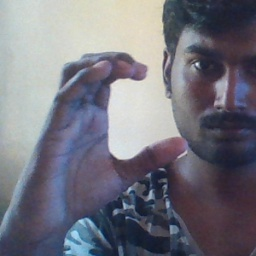C: (58, 50, 193, 182)
